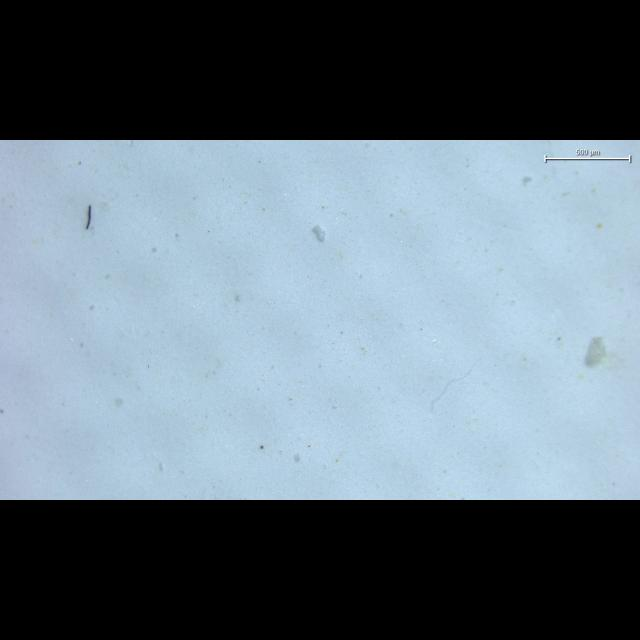Fibre: (431, 364, 475, 413), (86, 205, 92, 229)
Fragment: (585, 337, 606, 366), (312, 225, 325, 241)
